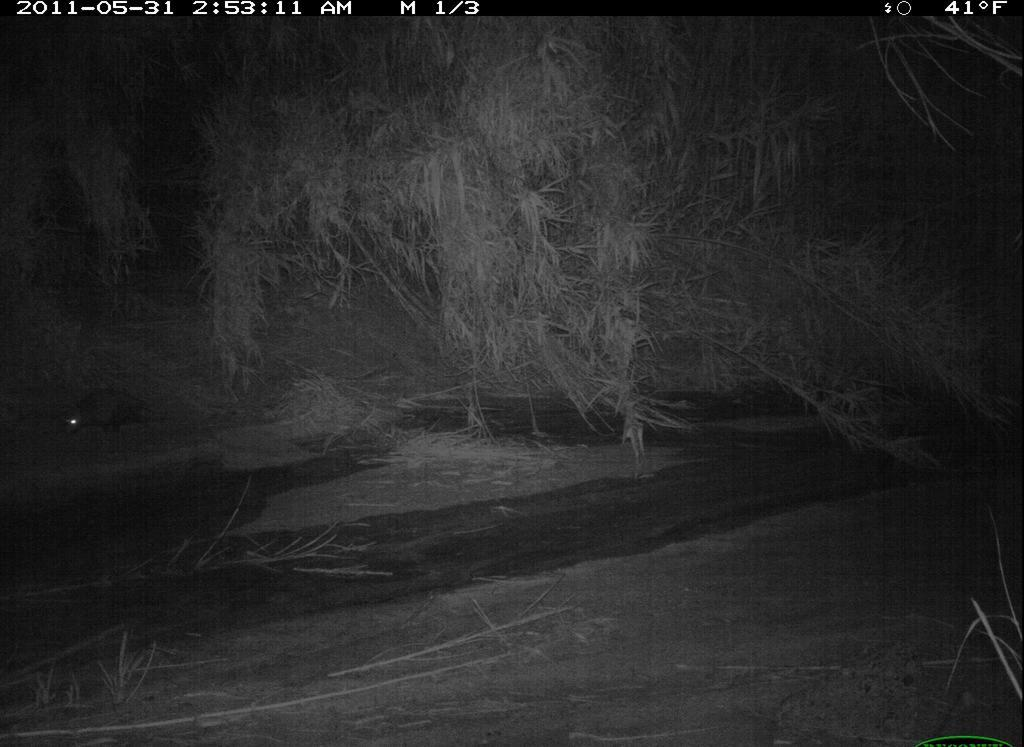opossum: (48, 372, 186, 445)
